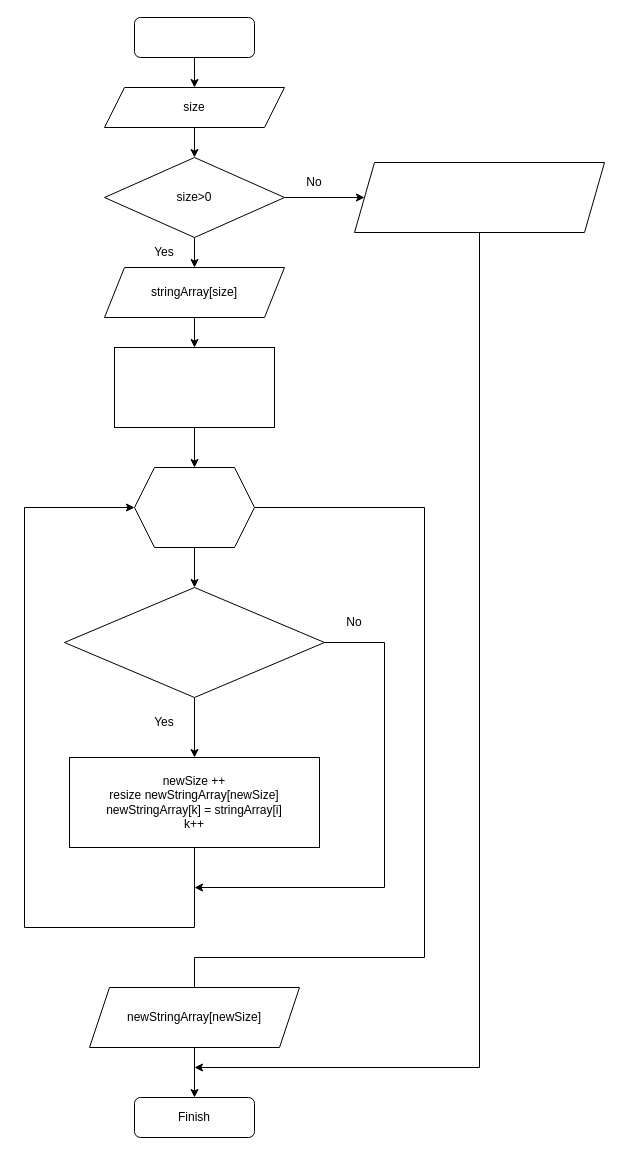
Image size: 622x1155. Some labels were removed from this diagram. Each missing label, with the centre of its shape:
"i=0, size, 1" belongs at [194,507].
"newSize = 0, k = 0, StringArray[newSize]" belongs at [194,387].
"Start" belongs at [194,37].
"stringArray[i].Length <=3" belongs at [194,642].
